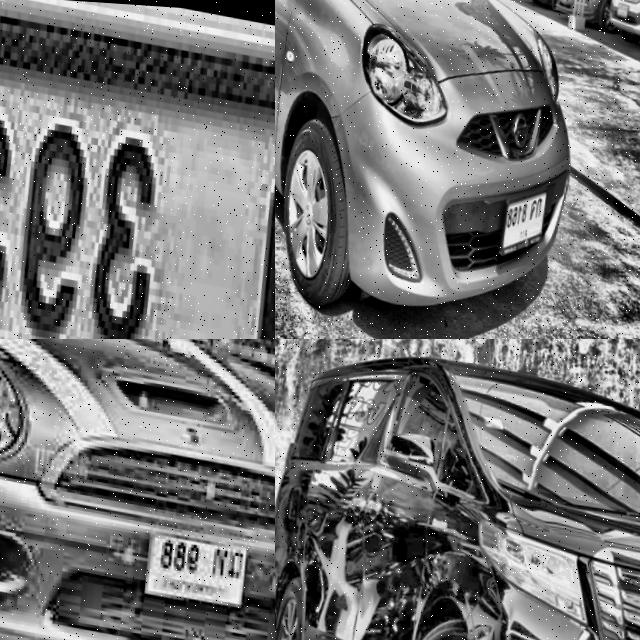license-plate: (0, 0, 275, 339), (126, 514, 251, 613), (492, 169, 544, 261), (610, 0, 627, 10)
